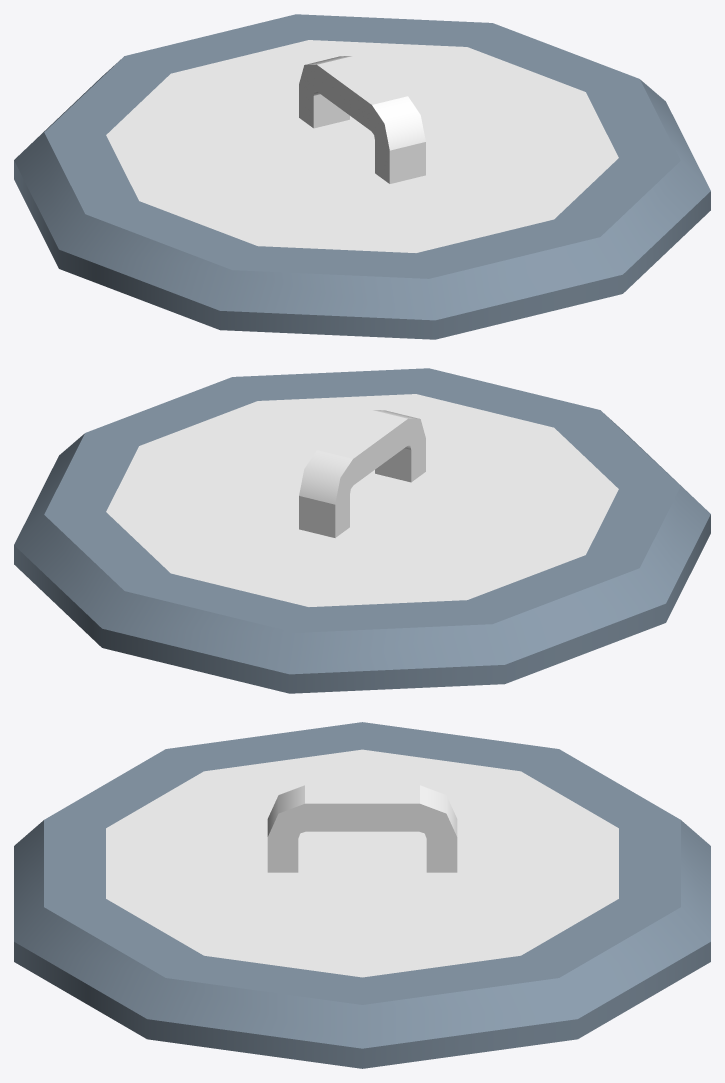
Rendered from potLid.GLB.
3 views of the same model, one above another, from view 1: azimuth 30°, elevation 25°; view 2: azimuth 150°, elevation 25°; view 3: azimuth 270°, elevation 25° (orthographic). The views are drawn at different scales.
Visible parts, largest first — view 1: potLid; view 2: potLid; view 3: potLid.
Boxes of the visible parts, x1,y1,x2,y2 form: potLid: (14,14,710,339); potLid: (14,368,710,693); potLid: (14,722,710,1068).
Bounding box in the file's own units: 0.6574 × 0.1184 × 0.6253.
